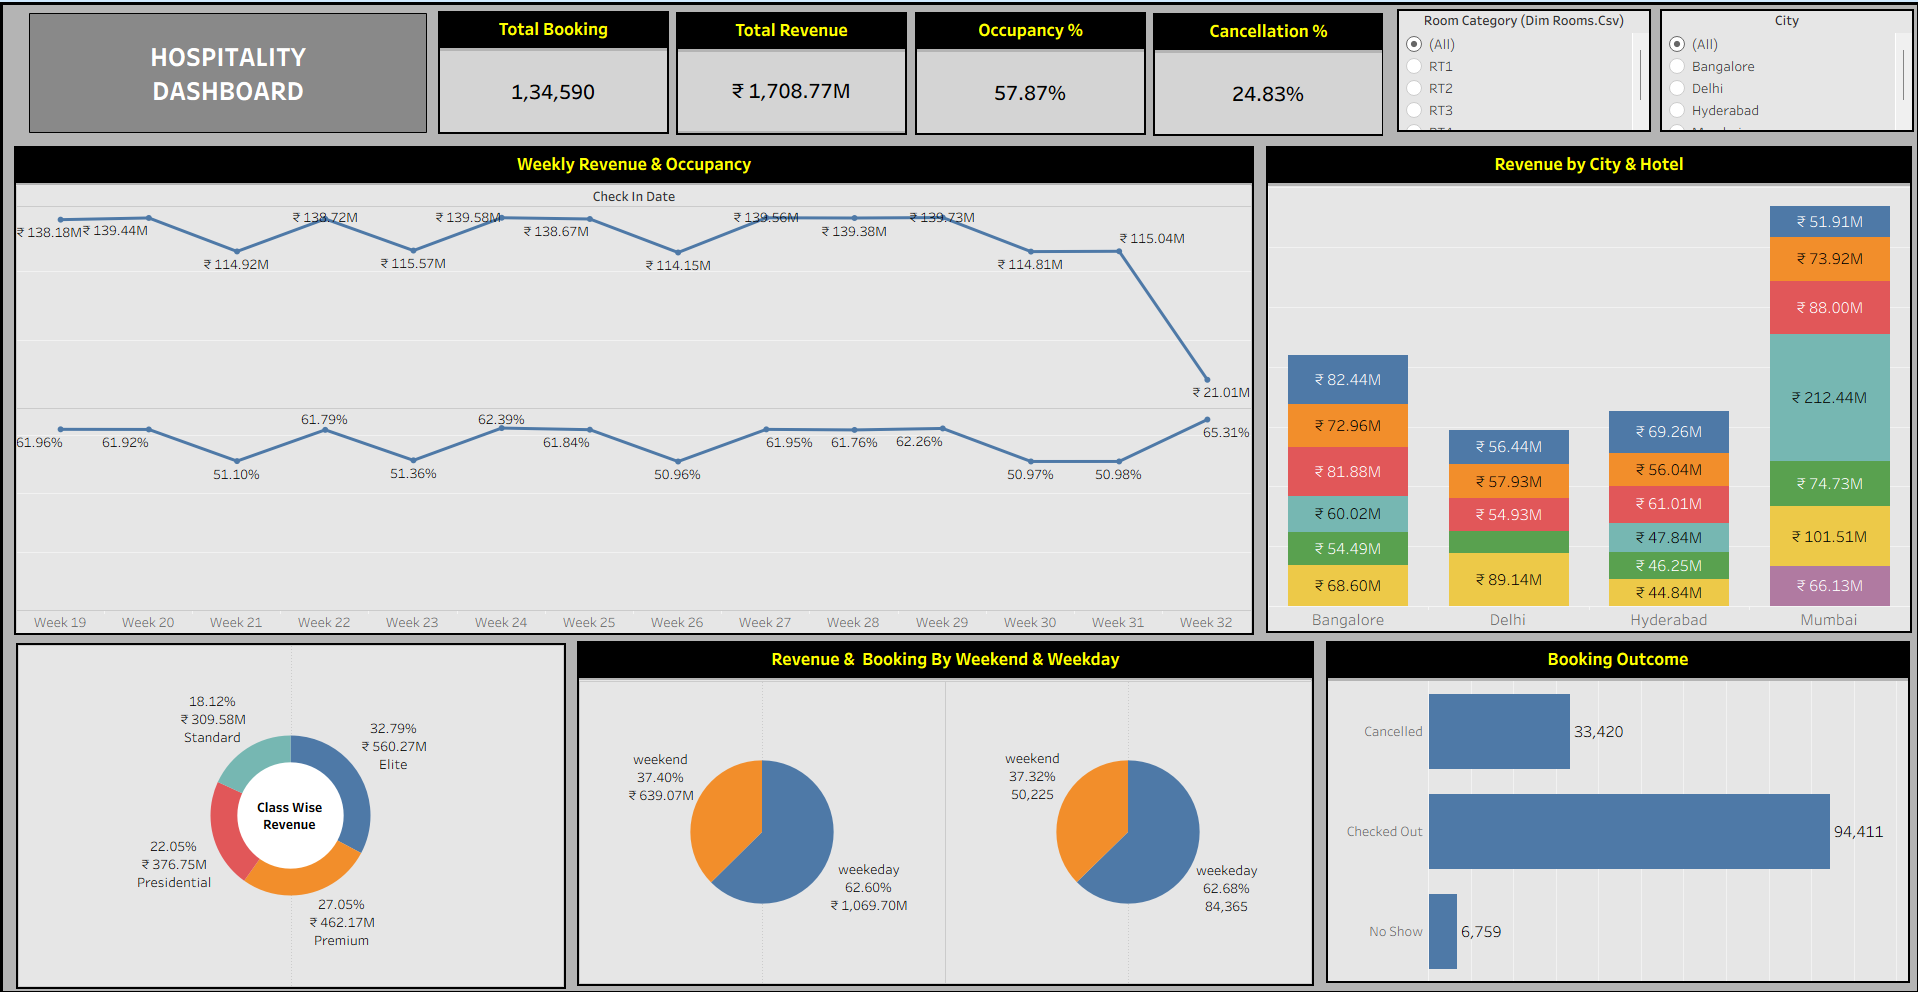

Layout of this report page (visuals, bound fields, positions):
{"tool":"tableau","page":{"name":"Dashboard 1","canvas":[1000,1000],"units":"permille","ordinal":0},"visuals":[{"type":"filter","title":"Booking Outcome","param":"[federated.1vksvlt178vvny11s6ptz175mfc6].[none:room_category (dim_rooms.csv):nk]","box":[727.8,7.4,132.2,124.1]},{"type":"filter","title":"Revenue by City & Hotel","param":"[federated.1vksvlt178vvny11s6ptz175mfc6].[none:city:nk]","box":[864.8,7.4,132.2,124.1]},{"type":"worksheet","title":"Total Booking","mark":"Automatic","box":[228.4,8.7,120.2,124.1]},{"type":"worksheet","title":"Total Revenue","mark":"Automatic","box":[352.2,9.9,120.2,124.1]},{"type":"worksheet","title":"Occupancy%","mark":"Automatic","box":[476.6,9.9,120.2,124.1]},{"type":"text","box":[15,11.2,207.3,120.4]},{"type":"worksheet","title":"Cancellation %","mark":"Automatic","box":[600.4,11.2,120.2,124.1]},{"type":"worksheet","title":"Weekly Revenue & Occupancy","mark":"Line","rows":["Calculation_1057189467152384","Calculation_1057189468569602"],"cols":["check_in_date"],"box":[7.2,145.2,646,492.6]},{"type":"worksheet","title":"Revenue by City & Hotel","mark":"Automatic","rows":["Calculation_1057189467152384"],"cols":["city"],"box":[659.2,145.2,336.5,490.1]},{"type":"worksheet","title":"Weekend & Weekday Rev","mark":"Pie","cols":["Calculation_1057189487374357","Calculation_1057189487374357"],"box":[300.5,643.9,384,347.4]},{"type":"worksheet","title":"Booking Outcome","mark":"Automatic","rows":["booking_status"],"cols":["Calculation_1057189467623425"],"box":[690.5,643.9,304.1,344.9]},{"type":"worksheet","title":"Classwise Rev","mark":"Automatic","cols":["Calculation_1057189487374357","Calculation_1057189487374357"],"box":[8.4,645.2,286.7,348.6]}]}

Visuals, with their boxes on the dashboard's canvas, which has no fixed pixel size, in thousandths of its width and height (x1, y1, x2, y2). These are canvas units, not pixel positions in the 1918x992 screenshot, which may show the page scaled, cropped or inside an application window:
"Booking Outcome" filter: [728,7,860,132]
"Revenue by City & Hotel" filter: [865,7,997,132]
"Total Booking" worksheet: [228,9,349,133]
"Total Revenue" worksheet: [352,10,472,134]
"Occupancy%" worksheet: [477,10,597,134]
text: [15,11,222,132]
"Cancellation %" worksheet: [600,11,721,135]
"Weekly Revenue & Occupancy" worksheet (Line marks): [7,145,653,638]
"Revenue by City & Hotel" worksheet: [659,145,996,635]
"Weekend & Weekday Rev" worksheet (Pie marks): [300,644,684,991]
"Booking Outcome" worksheet: [690,644,995,989]
"Classwise Rev" worksheet: [8,645,295,994]
